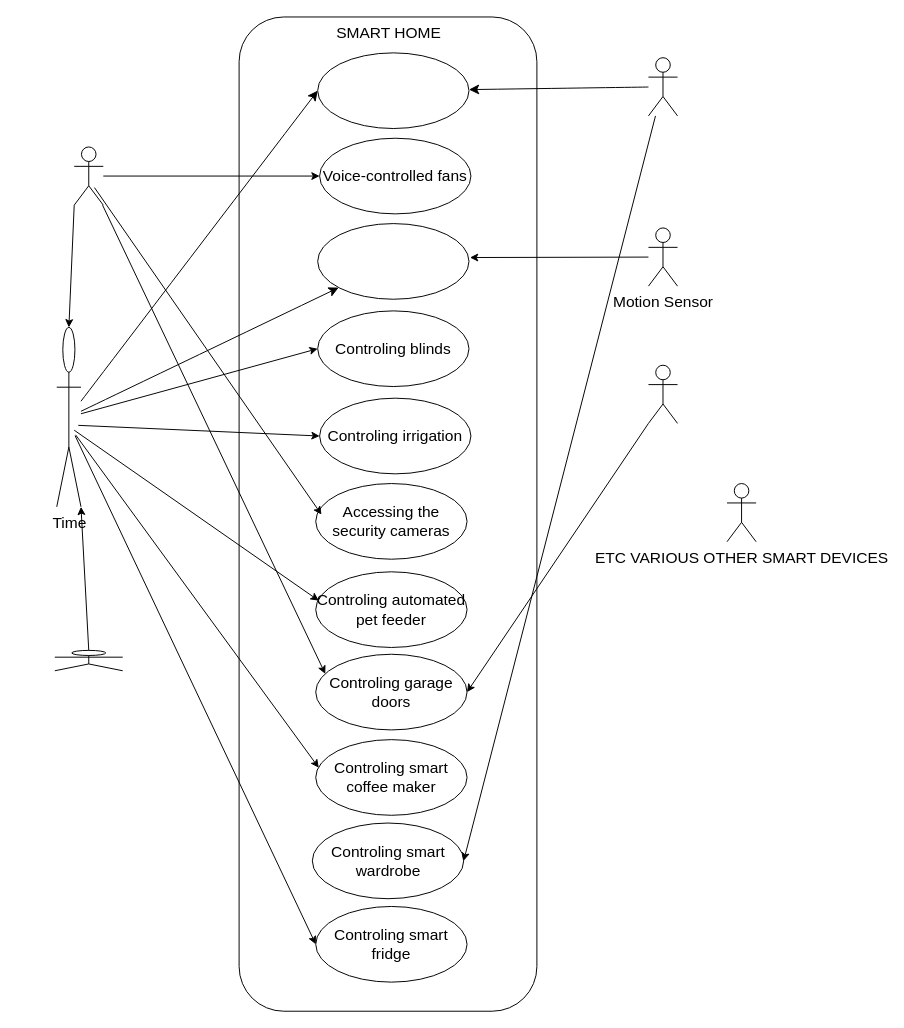
This 904x1028 diagram has some shape labels left out. The shapes that lost their labels are listed below. From the top down, each one's box as (x1, y1, x2, y2) in pixels, then its label:
(317, 52, 469, 129): Changing the temperature
(647, 57, 678, 116): Thermometer
(73, 146, 103, 205): User
(317, 223, 469, 299): Controling lights
(647, 364, 678, 423): Car (proximity)
(54, 649, 123, 671): Smart Home System
